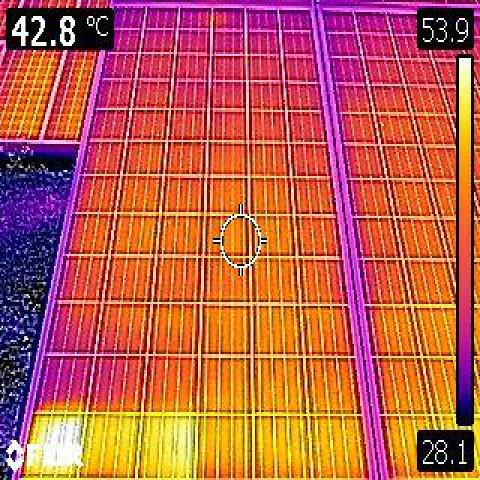fault: (29, 405, 93, 479), (143, 418, 194, 474), (93, 416, 137, 470)
